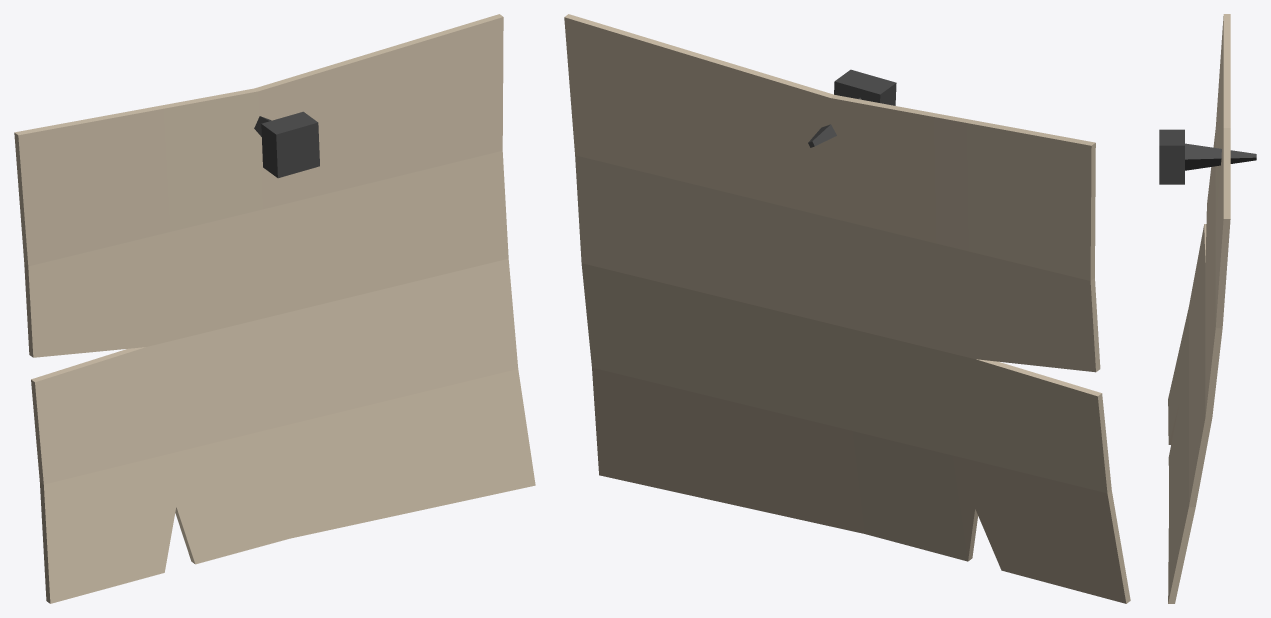
The model's file is Announcement_3.fbx.
The picture shows the model from 3 angles, left to right: view 1: azimuth 30°, elevation 25°; view 2: azimuth 150°, elevation 25°; view 3: azimuth 270°, elevation 25°; orthographic projection. The views are drawn at different scales.
Visible parts, largest first — view 1: Announcement_3; view 2: Announcement_3; view 3: Announcement_3.
Part boxes in pixels (bbox=[...]): Announcement_3: bbox=[14, 14, 535, 603]; Announcement_3: bbox=[564, 14, 1130, 603]; Announcement_3: bbox=[1159, 14, 1256, 603].
Bounding box in the file's own units: 41.97 × 8.45 × 36.79.
